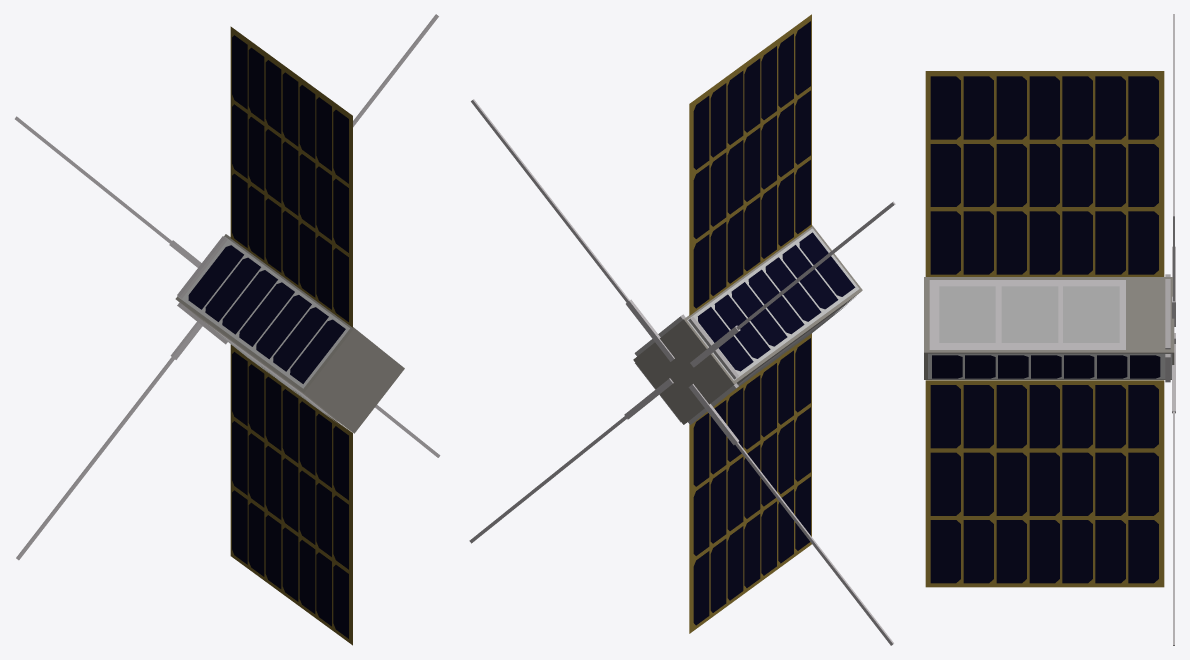
File: lemur2_high.gltf
The picture shows the model from 3 angles, left to right: view 1: azimuth 30°, elevation 25°; view 2: azimuth 150°, elevation 25°; view 3: azimuth 270°, elevation 25°; orthographic projection. The views are drawn at different scales.
Visible parts, largest first — view 1: Cube, Plane.021, Plane.012, Plane.008, Plane.142, Plane.143, Plane.144, Plane.145, Plane.147, Plane.146, Plane.148, Cube.007 (+44 smaller); view 2: Cube, Plane.021, Plane.012, Plane.008, Plane.147, Plane.144, Plane.146, Plane.145, Plane.148, Plane.143, Plane.142, Cube.007 (+45 smaller); view 3: Plane.013, Plane.011, Cube, Plane.010, Plane.150, Plane.149, Plane.151, Plane.022, Plane.025, Plane.026, Plane.027, Plane.028 (+48 smaller).
Part boxes in pixels (<box>): Cube: <box>175,234,404,433</box>; Plane.021: <box>230,26,352,327</box>; Plane.012: <box>230,344,352,645</box>; Plane.008: <box>178,236,349,388</box>; Plane.142: <box>188,245,243,309</box>; Plane.143: <box>205,257,260,321</box>; Plane.144: <box>222,270,277,334</box>; Plane.145: <box>239,282,294,346</box>; Plane.147: <box>273,307,328,371</box>; Plane.146: <box>256,295,311,359</box>; Plane.148: <box>290,319,345,383</box>; Cube.007: <box>16,357,174,560</box>; Cube: <box>633,225,862,424</box>; Plane.021: <box>689,14,811,315</box>; Plane.012: <box>689,333,811,633</box>; Plane.008: <box>687,228,859,380</box>; Plane.147: <box>782,245,838,309</box>; Plane.144: <box>731,282,787,346</box>; Plane.146: <box>765,257,821,321</box>; Plane.145: <box>748,269,804,334</box>; Plane.148: <box>799,232,855,296</box>; Plane.143: <box>714,294,770,358</box>; Plane.142: <box>698,307,753,371</box>; Cube.007: <box>735,442,893,645</box>; Plane.013: <box>925,380,1164,587</box>; Plane.011: <box>925,71,1164,276</box>; Cube: <box>924,277,1174,379</box>; Plane.010: <box>929,280,1125,349</box>; Plane.150: <box>1001,286,1058,342</box>; Plane.149: <box>1063,286,1119,342</box>; Plane.151: <box>939,286,995,342</box>; Plane.022: <box>1128,211,1158,274</box>; Plane.025: <box>1095,211,1125,274</box>; Plane.026: <box>1062,211,1092,274</box>; Plane.027: <box>1029,211,1059,274</box>; Plane.028: <box>996,211,1026,274</box>.
Bounding box in the file's own units: 11.89 × 14.17 × 6.27.
